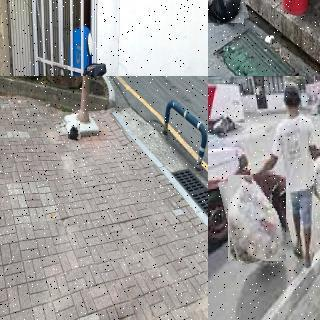Garbage: (223, 172, 291, 264), (208, 0, 246, 24), (312, 143, 320, 206), (67, 121, 81, 139)
